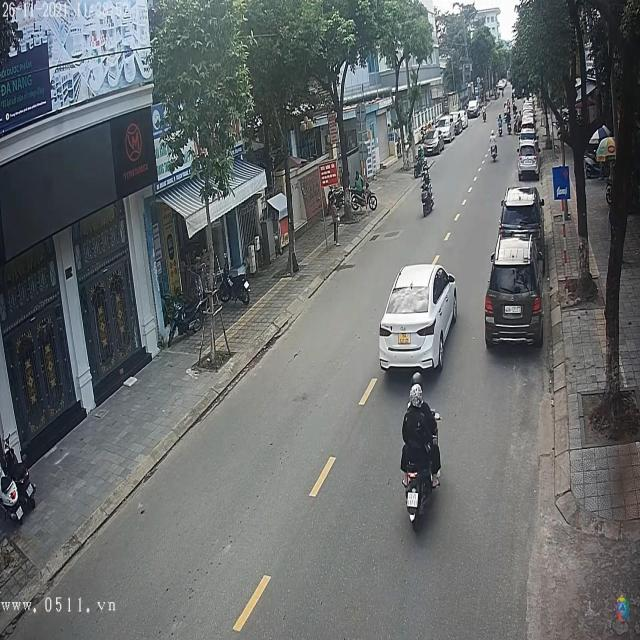car: (380, 263, 459, 375), (486, 228, 544, 350), (501, 186, 545, 239), (427, 114, 459, 146), (516, 144, 540, 181), (424, 126, 446, 155), (517, 126, 536, 141), (468, 99, 482, 118)
motorcycle: (401, 448, 440, 528), (420, 186, 435, 220)
